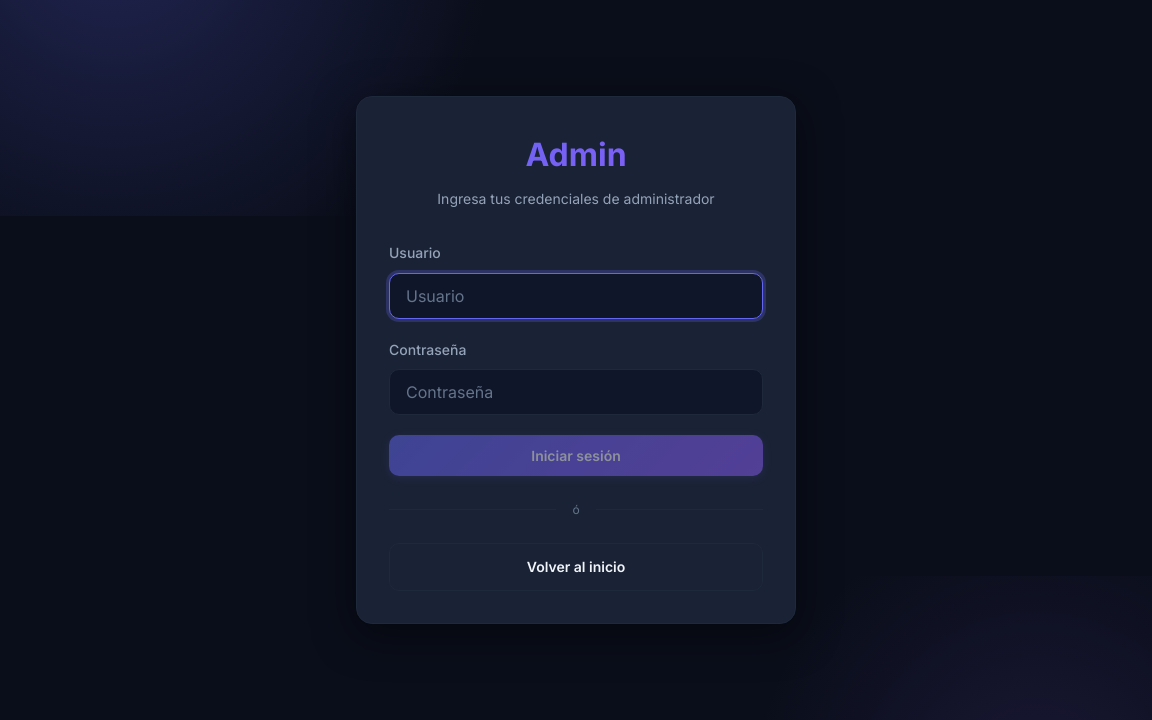
Test case: AdminLogin › shows error on failed login
This screenshot has width=1152, height=720.
Type "admin" into the field labelled "Usuario". click: (576, 296)
box: [389,272,763,318]
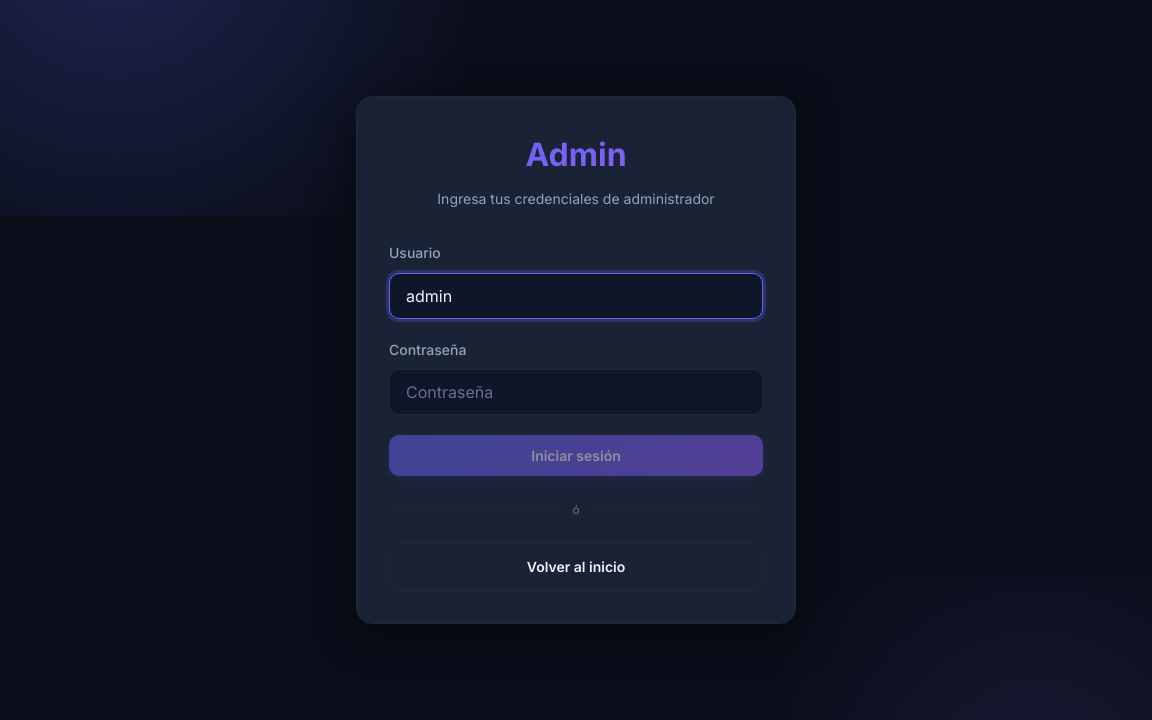
Type "wrong" into the password field labelled "Contraseña". click: (576, 392)
box: [389,369,763,415]
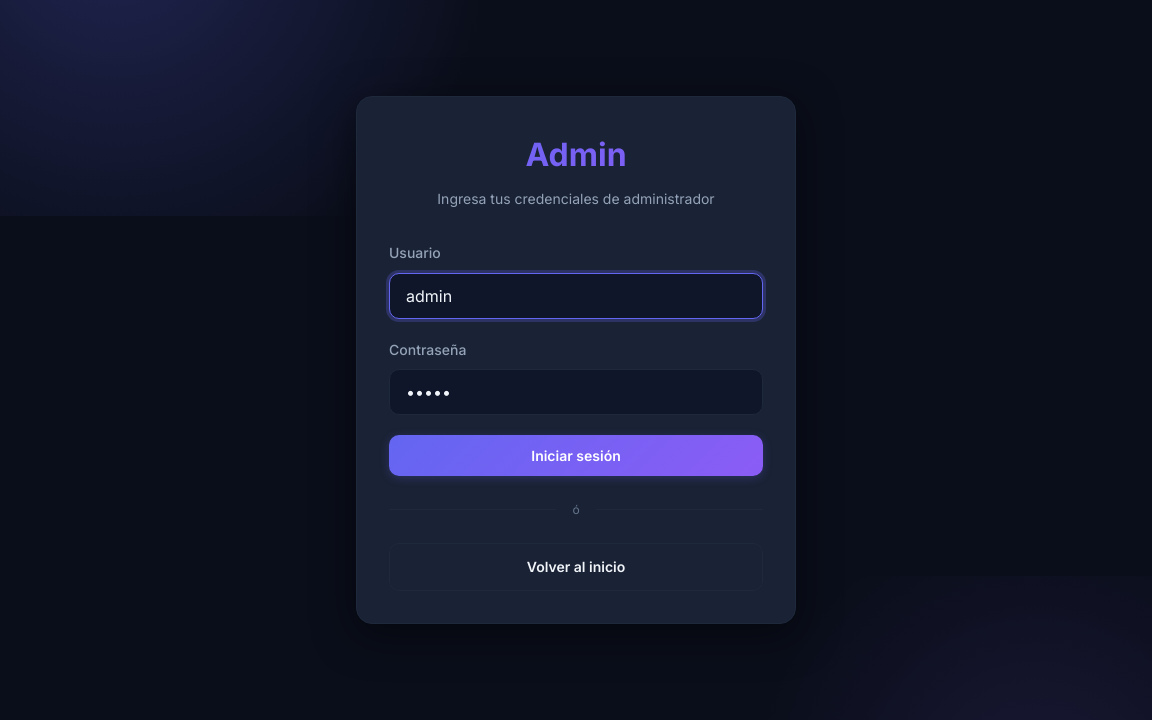
Click the button "Iniciar sesión". click: (576, 455)
box: [389,435,763,476]
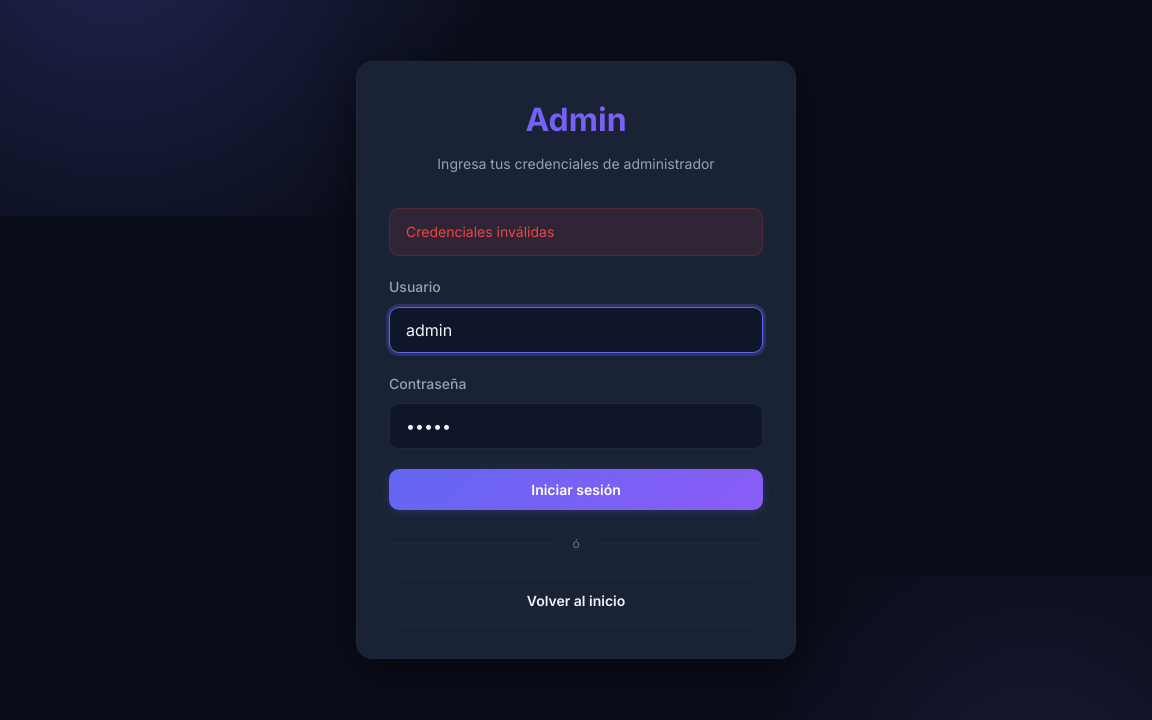
Check: the text "Credenciales inválidas" is shown, box [389,208,763,256]
